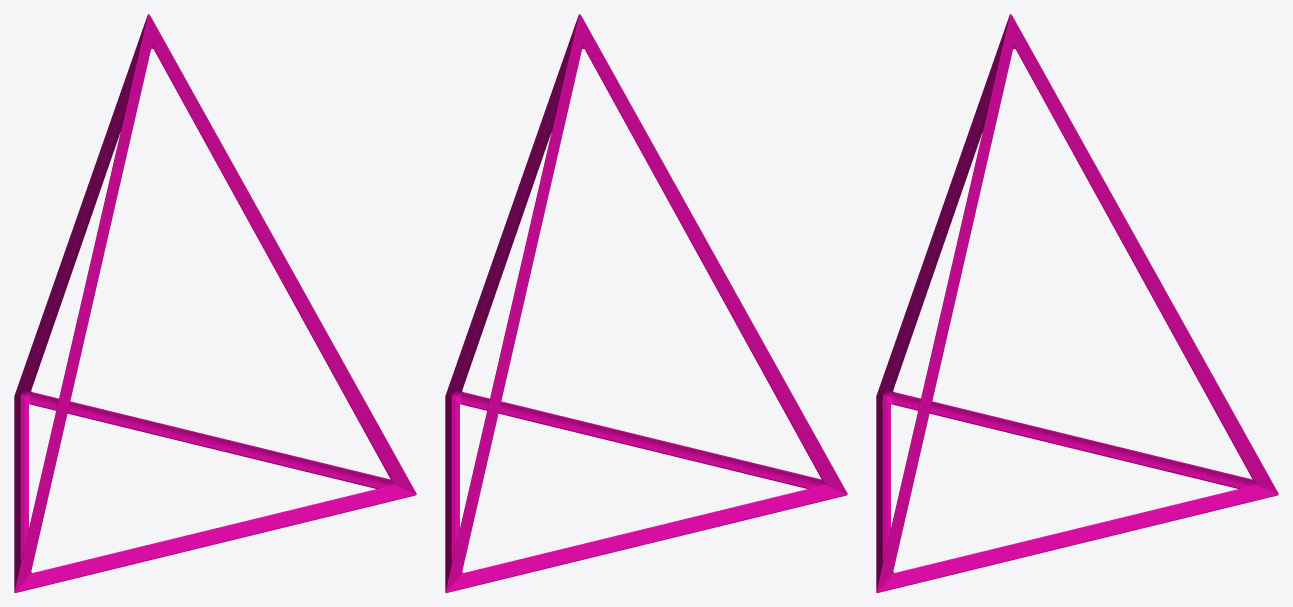
3 views of the same model, side by side, from view 1: azimuth 30°, elevation 25°; view 2: azimuth 150°, elevation 25°; view 3: azimuth 270°, elevation 25° (orthographic).
Parts seen in each view (by area): view 1: Cone; view 2: Cone; view 3: Cone.
Part boxes in pixels (x1,y1,x2,y2): Cone: [14, 14, 416, 592]; Cone: [445, 14, 847, 592]; Cone: [876, 14, 1278, 592].
Bounding box in the file's own units: 3.01 × 3.45 × 2.61.
